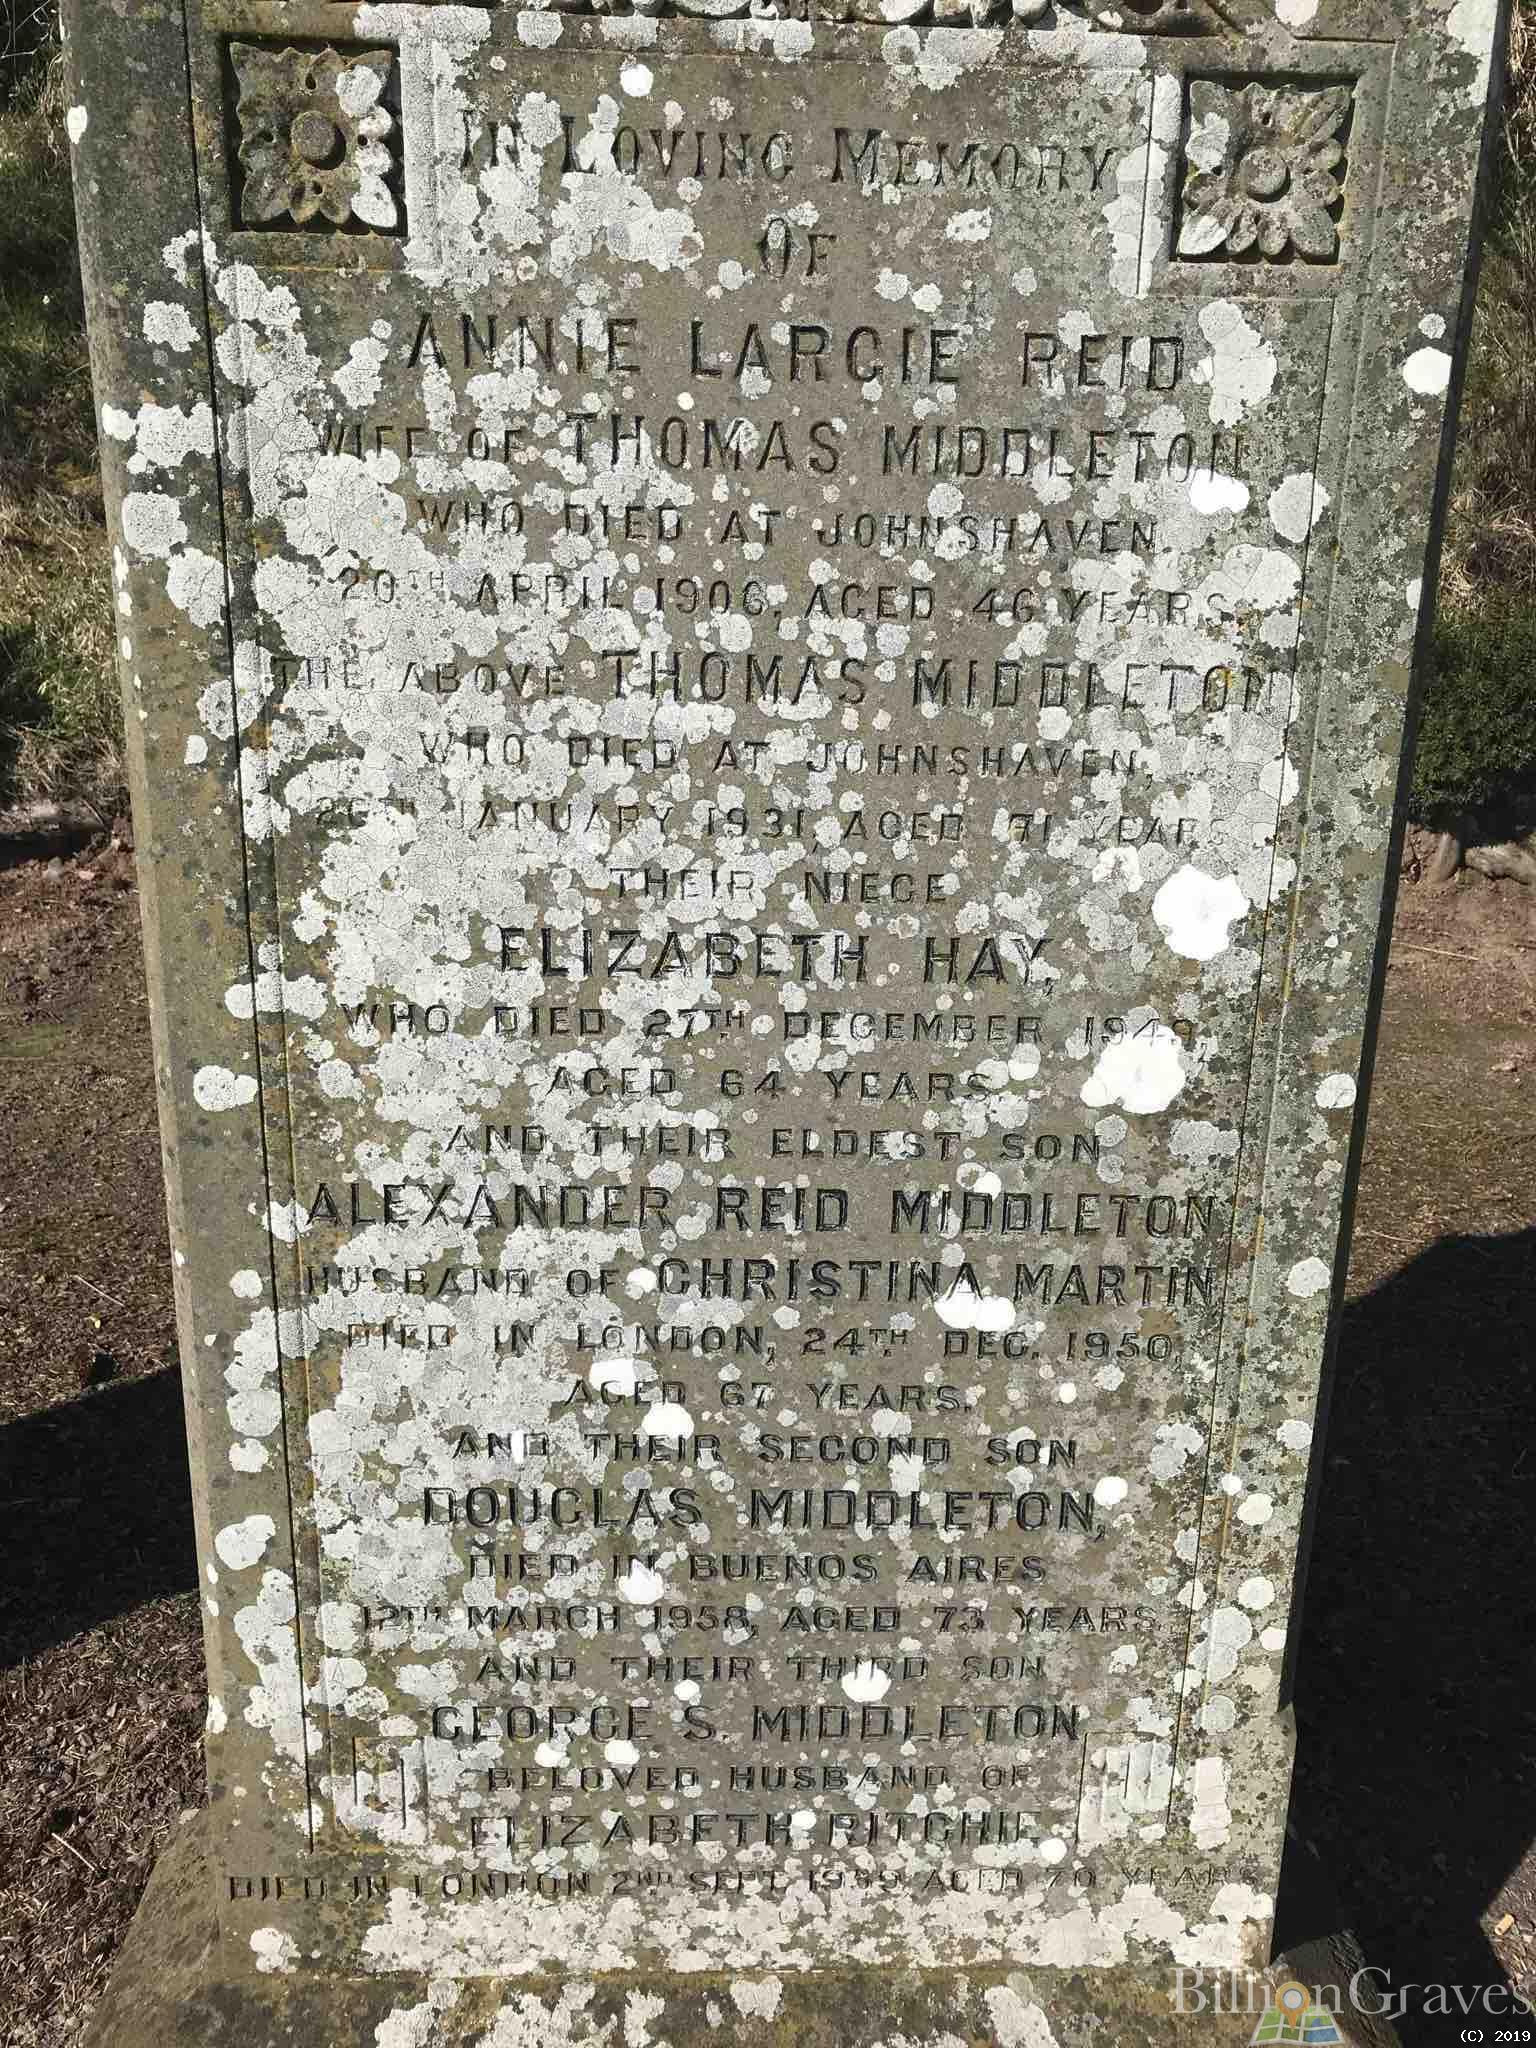upright: (18, 6, 1536, 1959)
